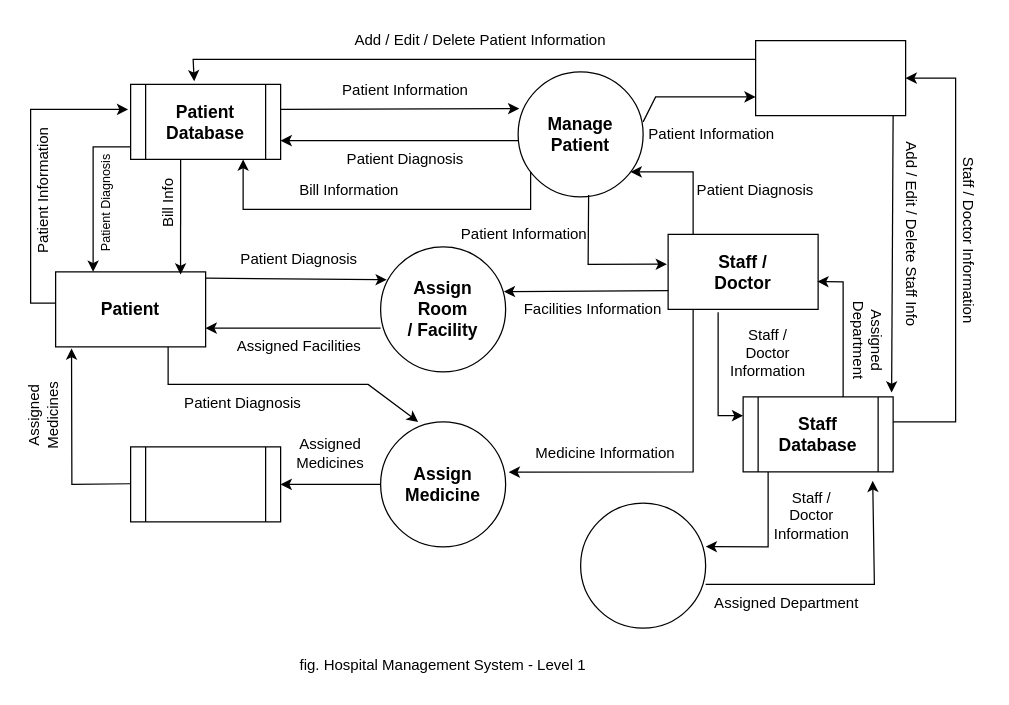
Image size: 1009x705. Some labels were removed from this diagram. Here are the shapes that lost their labels. From the top down, the centre of each, then its label:
the point at 830,77: Admin
the point at 205,484: Medicine Database
the point at 642,565: Manage Staff / Doctor
